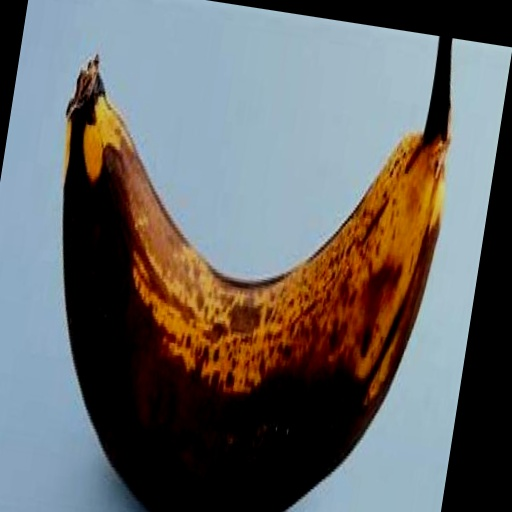fruit: (63, 37, 451, 512)
